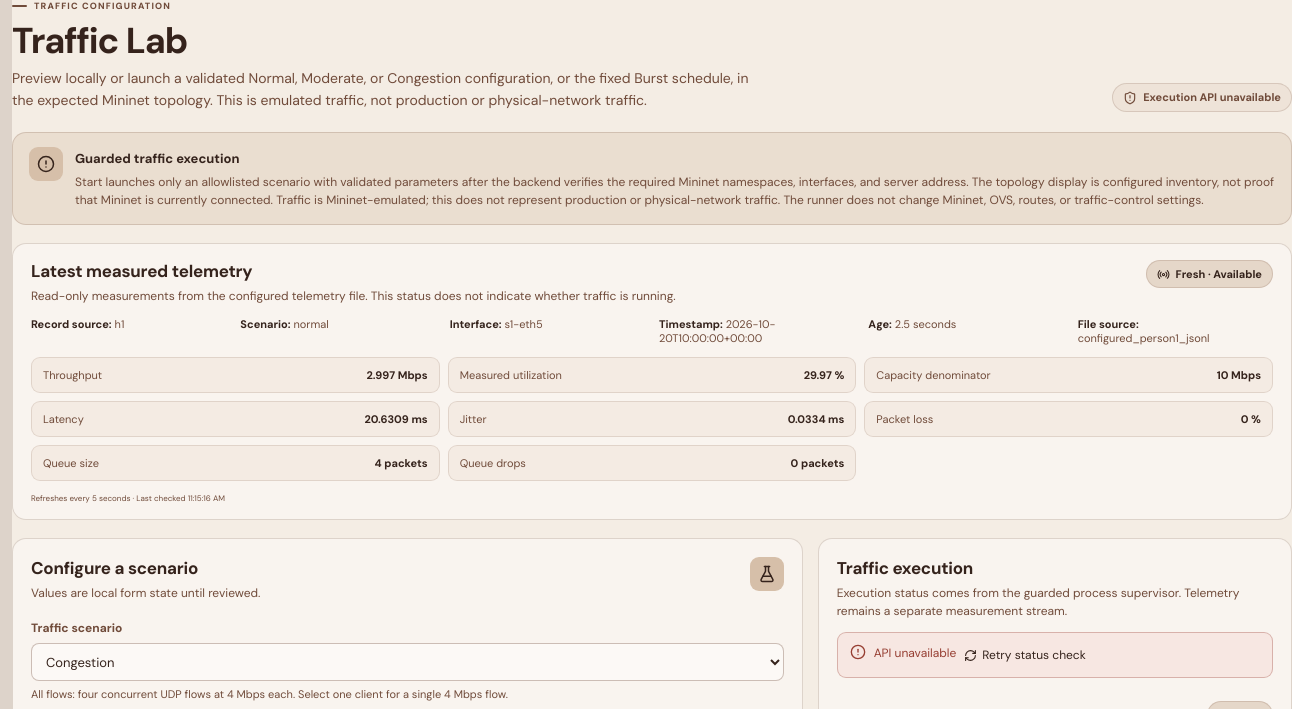
Test: Traffic Lab telemetry and execution boundary › recovers the execution controls after an API status failure
This screenshot has width=1292, height=709.
Click the button "Retry status check" at (1025,655), box [964,644,1086,666]
(page scrolled)
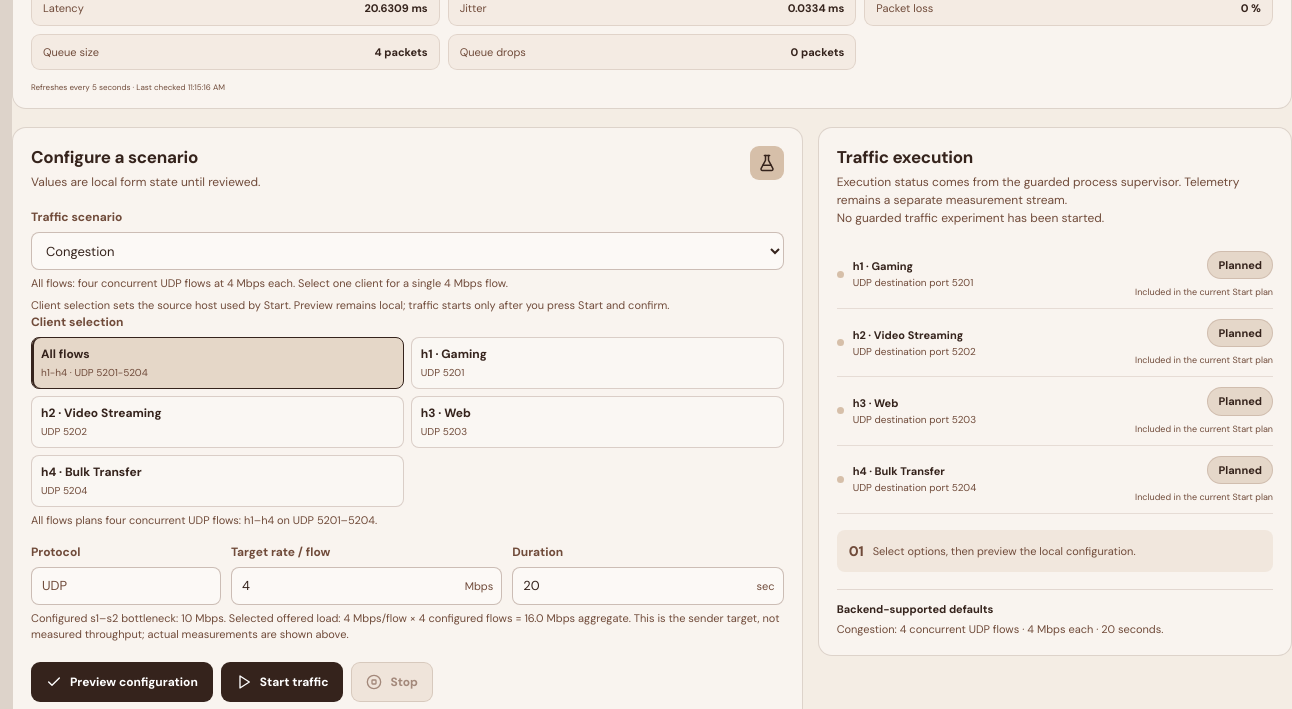
Expected: the text "API unavailable" is gone
Expected: the button "Start traffic" is enabled, [221,662,343,702]
